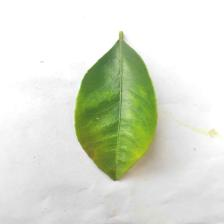greening: (70, 94, 169, 166)
